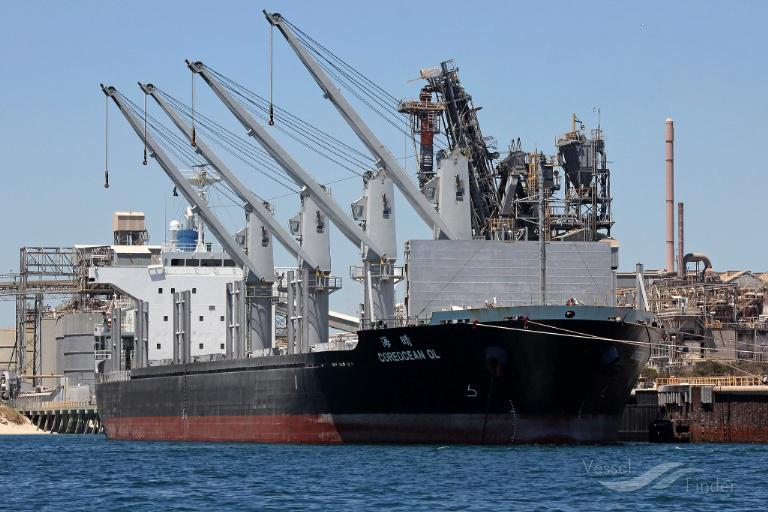OCR: (367, 349, 443, 367)
